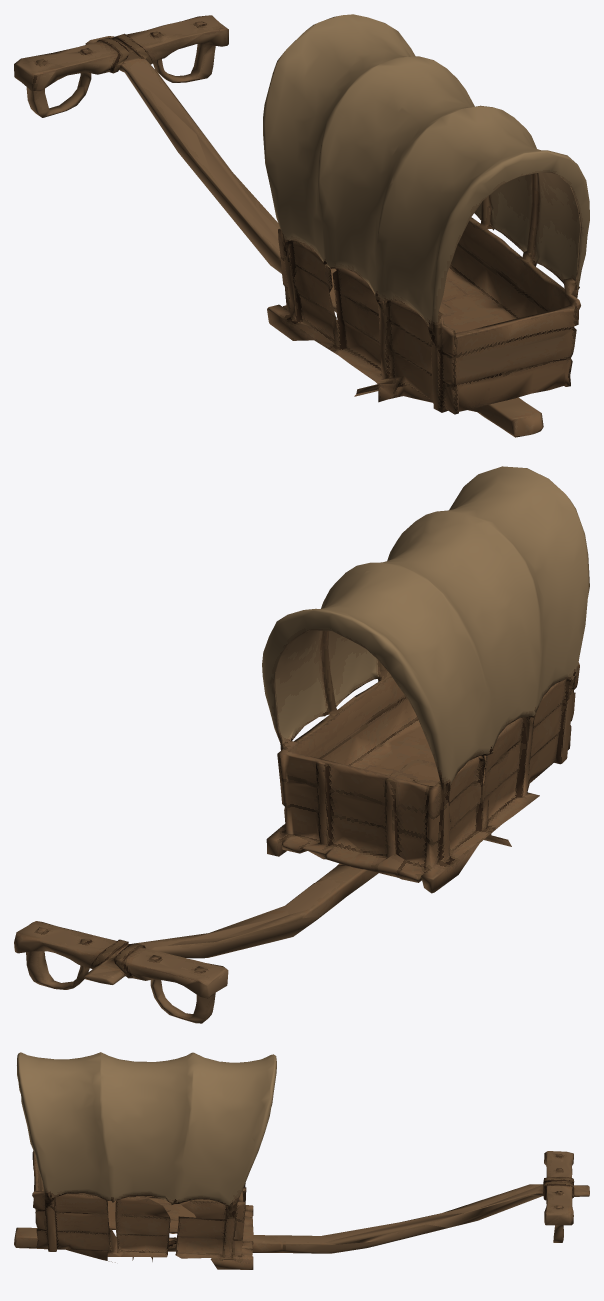
Rendered from carreta_sin_ruedas.glb.
The picture shows the model from 3 angles, top to bottom: view 1: azimuth 30°, elevation 25°; view 2: azimuth 150°, elevation 25°; view 3: azimuth 270°, elevation 25°; orthographic projection. The views are drawn at different scales.
Visible parts, largest first — view 1: carreta; view 2: carreta; view 3: carreta.
Boxes of the visible parts, box(x1,y1,x2,y2) form: carreta: box(14, 14, 589, 437); carreta: box(14, 466, 589, 1023); carreta: box(14, 1052, 589, 1269).
Bounding box in the file's own units: 0.53 × 0.781 × 2.01.
1 material, 1 textured.
